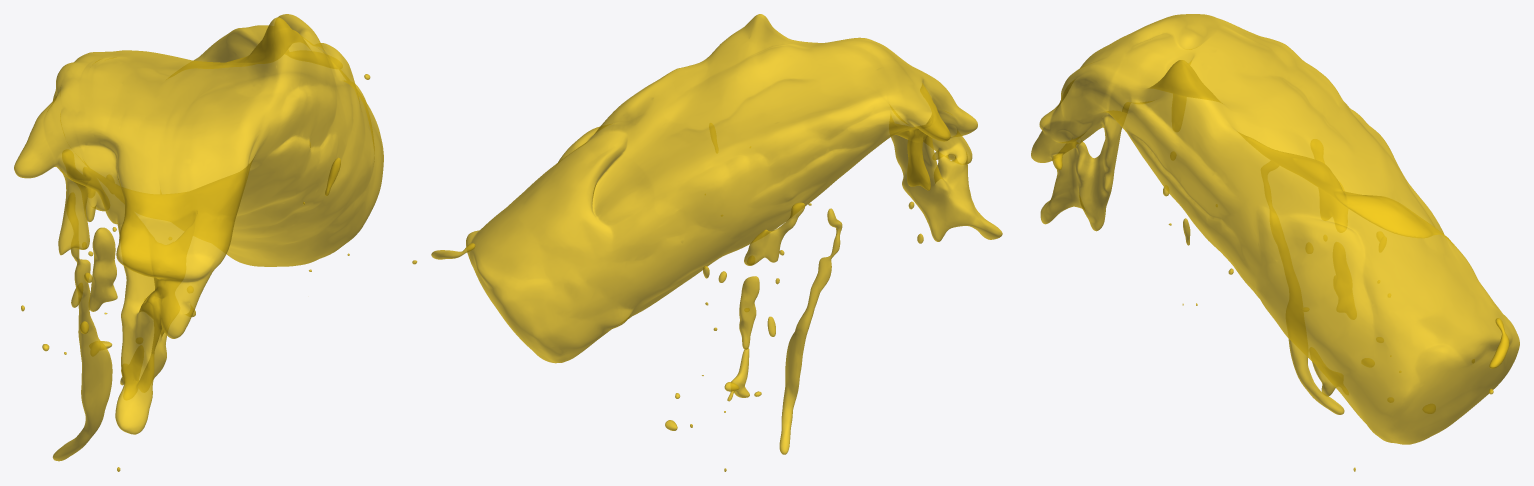
Rendered from bia_ls_2.glb.
3 renders of one model, left to right at view 1: azimuth 30°, elevation 25°; view 2: azimuth 150°, elevation 25°; view 3: azimuth 270°, elevation 25°, orthographic. The views are drawn at different scales.
Parts seen in each view (by area): view 1: Liquids_Shell; view 2: Liquids_Shell; view 3: Liquids_Shell.
Boxes of the visible parts, bbox=[...] form: Liquids_Shell: bbox=[14, 14, 383, 471]; Liquids_Shell: bbox=[412, 14, 1002, 471]; Liquids_Shell: bbox=[1031, 14, 1519, 471].
Size of the model in its own units: 0.2705 by 0.2504 by 0.2552.
